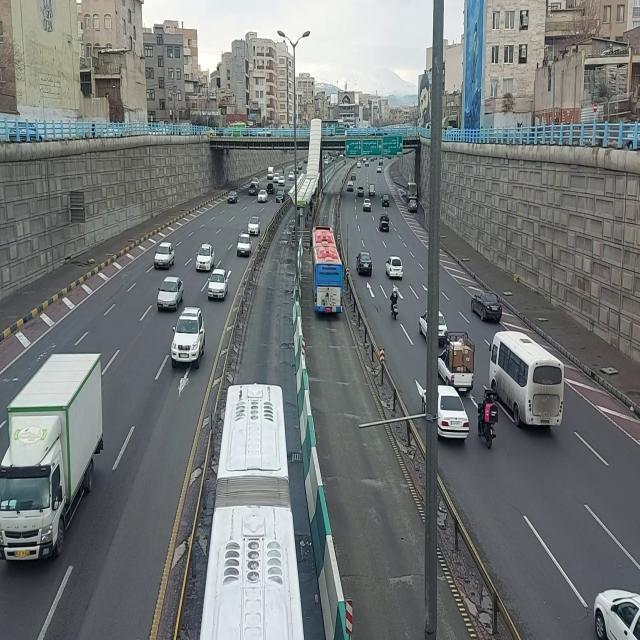Bus: (309, 221, 345, 321)
Car: (169, 307, 208, 372), (435, 383, 475, 443), (470, 290, 504, 325), (155, 274, 185, 312), (207, 268, 229, 302), (154, 242, 177, 270), (196, 243, 216, 272), (354, 252, 373, 278), (385, 256, 405, 280), (236, 233, 254, 258), (247, 214, 263, 236), (226, 188, 240, 206), (257, 188, 269, 204), (275, 187, 287, 203), (362, 198, 373, 214), (248, 183, 258, 199), (266, 182, 276, 197), (408, 199, 418, 213), (382, 193, 390, 207), (347, 179, 355, 193), (278, 176, 287, 188), (357, 186, 365, 198), (288, 171, 296, 182), (273, 173, 280, 184), (351, 172, 357, 182), (377, 165, 383, 174), (357, 160, 363, 168), (365, 160, 370, 168)
Motorcycle: (390, 287, 400, 321), (282, 163, 286, 175)
Pickup: (438, 330, 476, 394), (379, 214, 391, 233), (267, 165, 275, 181), (368, 183, 376, 197)
Truck: (0, 347, 104, 572)
